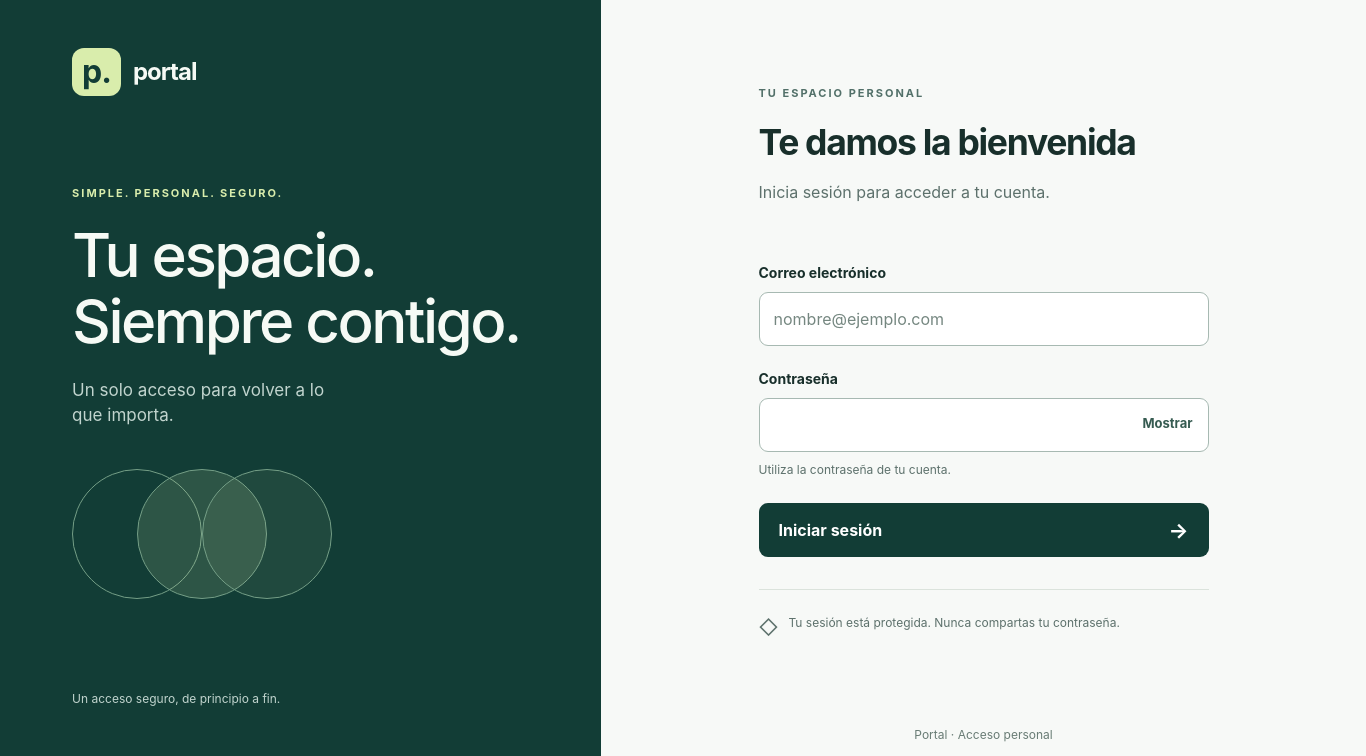
Test case: sesión y acceso › presenta error genérico de credenciales y permite volver a intentarlo
In the field labelled "Correo electrónico": point(984, 319) x1=758 y1=292 x2=1208 y2=346, type "demo@example.com"
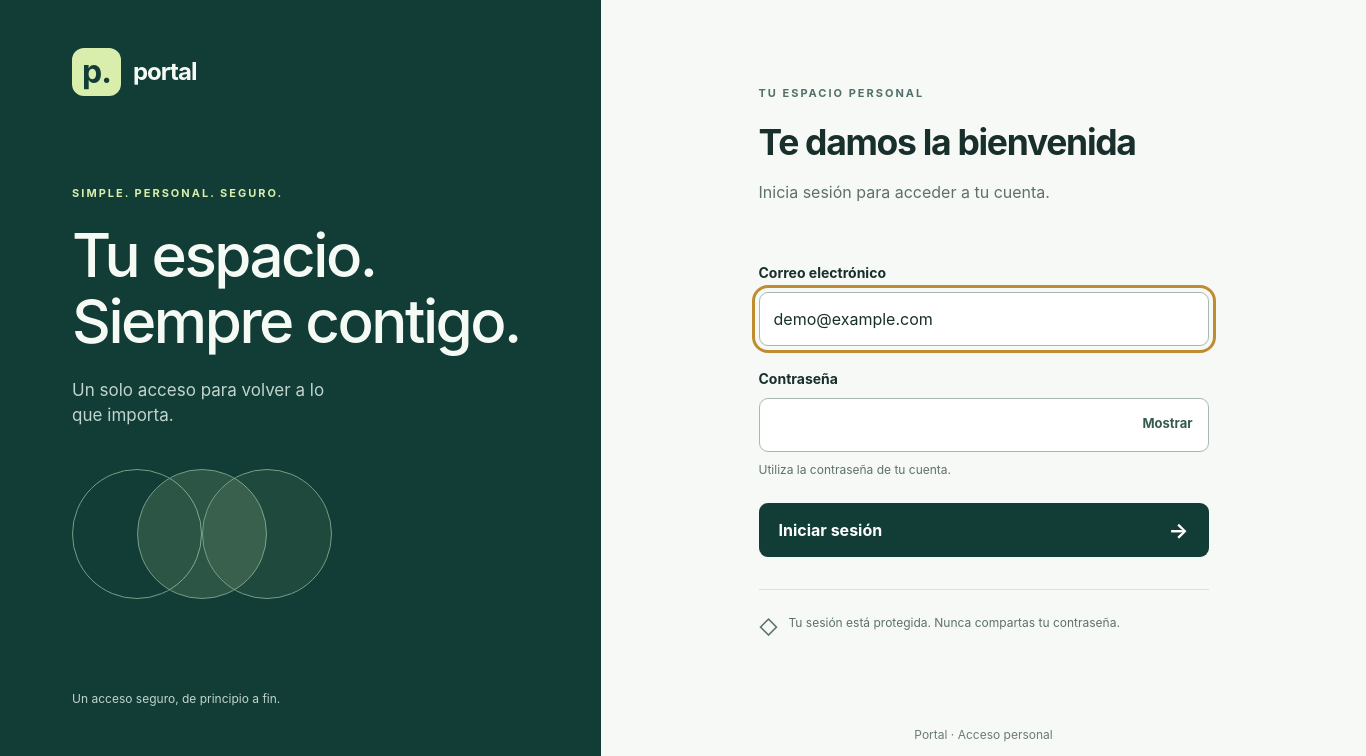
In the password field labelled "Contraseña": point(984, 425) x1=758 y1=398 x2=1208 y2=452, type "incorrecta"
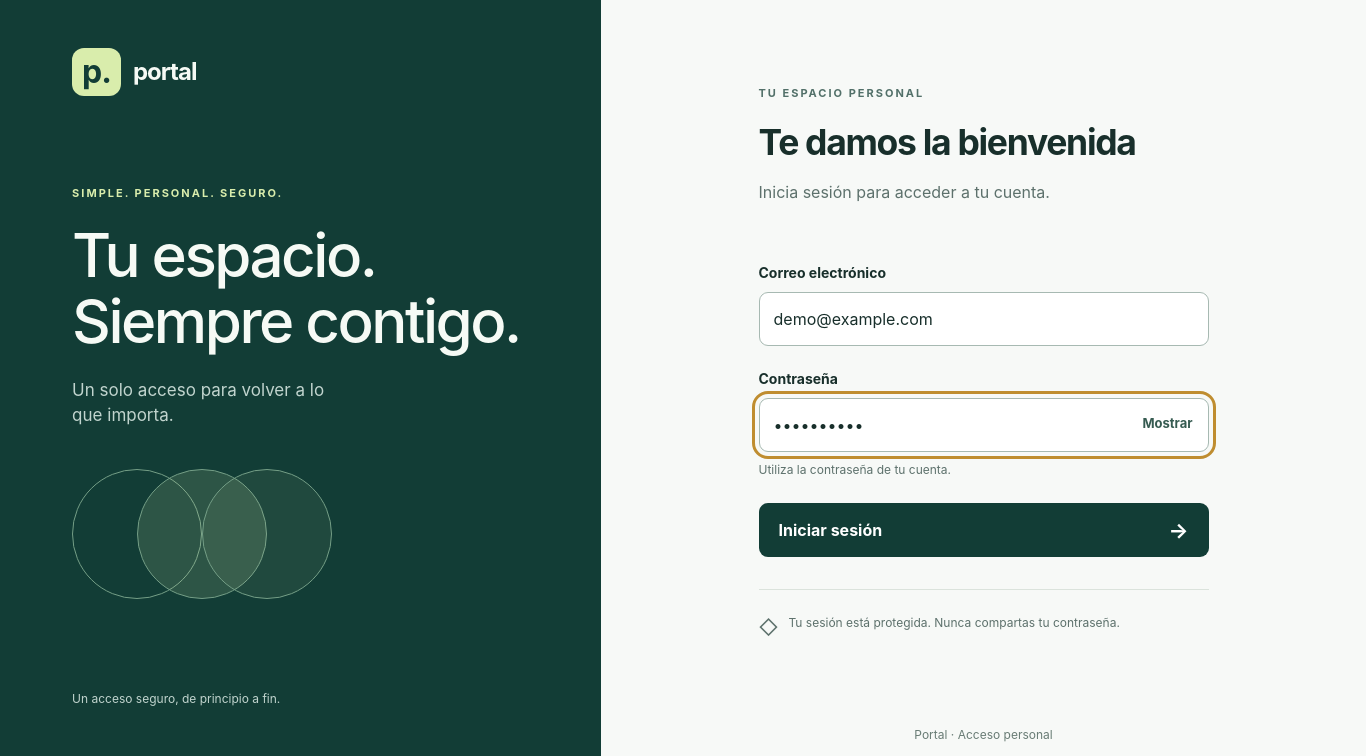
Click the button "Iniciar sesión →": point(830, 530) x1=758 y1=503 x2=1208 y2=557
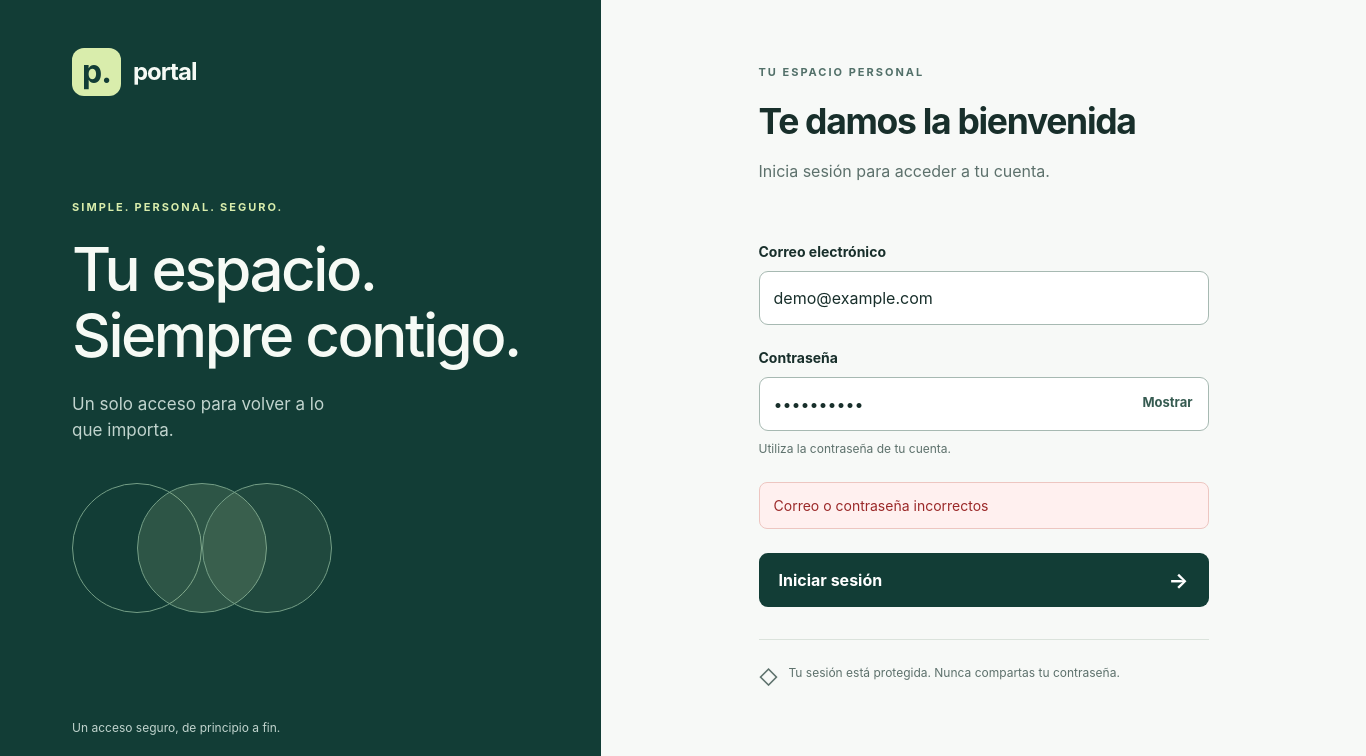
Expected: the button "Iniciar sesión →" is enabled, x1=758 y1=553 x2=1208 y2=607
Result: the message reads "Correo o contraseña incorrectos" at x1=774 y1=497 x2=988 y2=514
